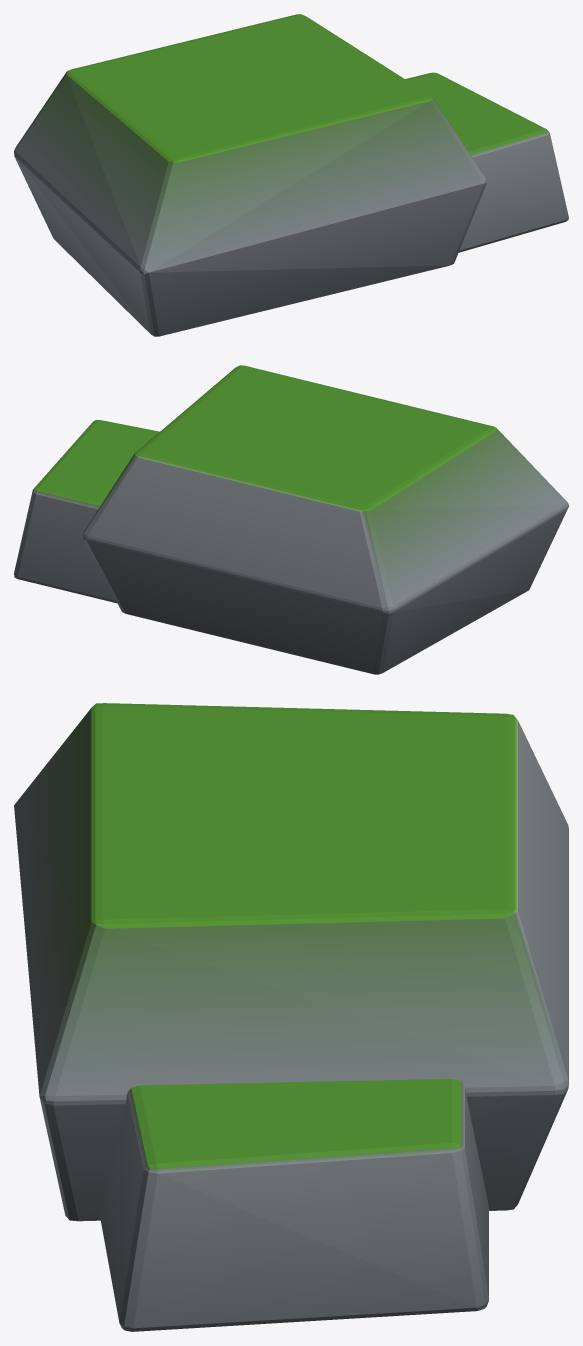
The model's file is Rock_Big_Boulder_Moss_01.fbx.
3 views of the same model, one above another, from view 1: azimuth 30°, elevation 25°; view 2: azimuth 150°, elevation 25°; view 3: azimuth 270°, elevation 25° (orthographic). The views are drawn at different scales.
Parts seen in each view (by area): view 1: Rock_Big_Boulder_Moss_01; view 2: Rock_Big_Boulder_Moss_01; view 3: Rock_Big_Boulder_Moss_01.
Part boxes in pixels (x1=…): Rock_Big_Boulder_Moss_01: x1=14, y1=14, x2=568, y2=336; Rock_Big_Boulder_Moss_01: x1=14, y1=365, x2=568, y2=674; Rock_Big_Boulder_Moss_01: x1=14, y1=703, x2=568, y2=1331.
Size of the model in its own units: 348 by 120 by 209.
